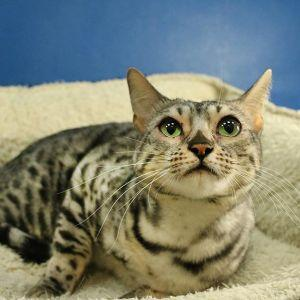bengal: (117, 64, 279, 202)
